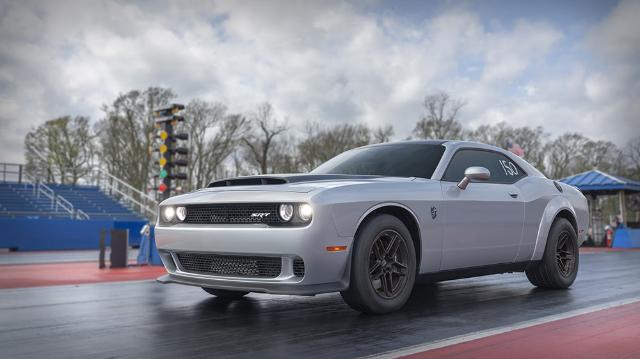dodge: (154, 140, 590, 316)
